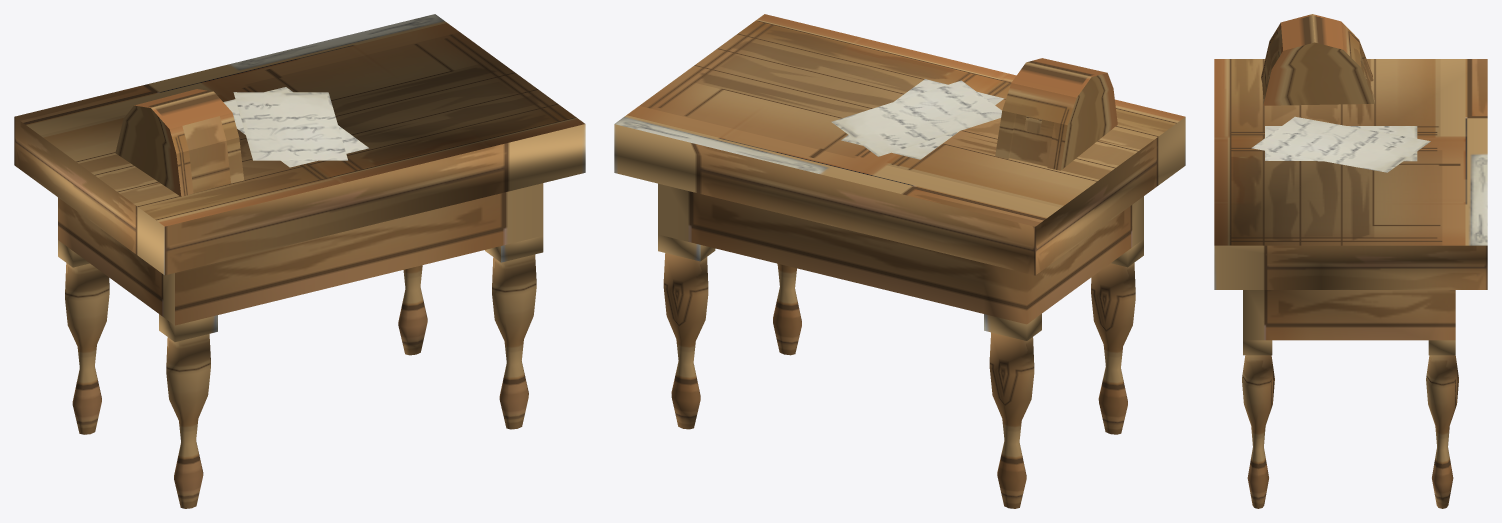
File: counter2.FBX
The picture shows the model from 3 angles, left to right: view 1: azimuth 30°, elevation 25°; view 2: azimuth 150°, elevation 25°; view 3: azimuth 270°, elevation 25°; orthographic projection. The views are drawn at different scales.
Visible parts, largest first — view 1: counter02; view 2: counter02; view 3: counter02.
Boxes of the visible parts, x1,y1,x2,y2 form: counter02: (14, 14, 585, 508); counter02: (614, 14, 1185, 508); counter02: (1214, 14, 1487, 508).
Size of the model in its own units: 242 by 208 by 150.
